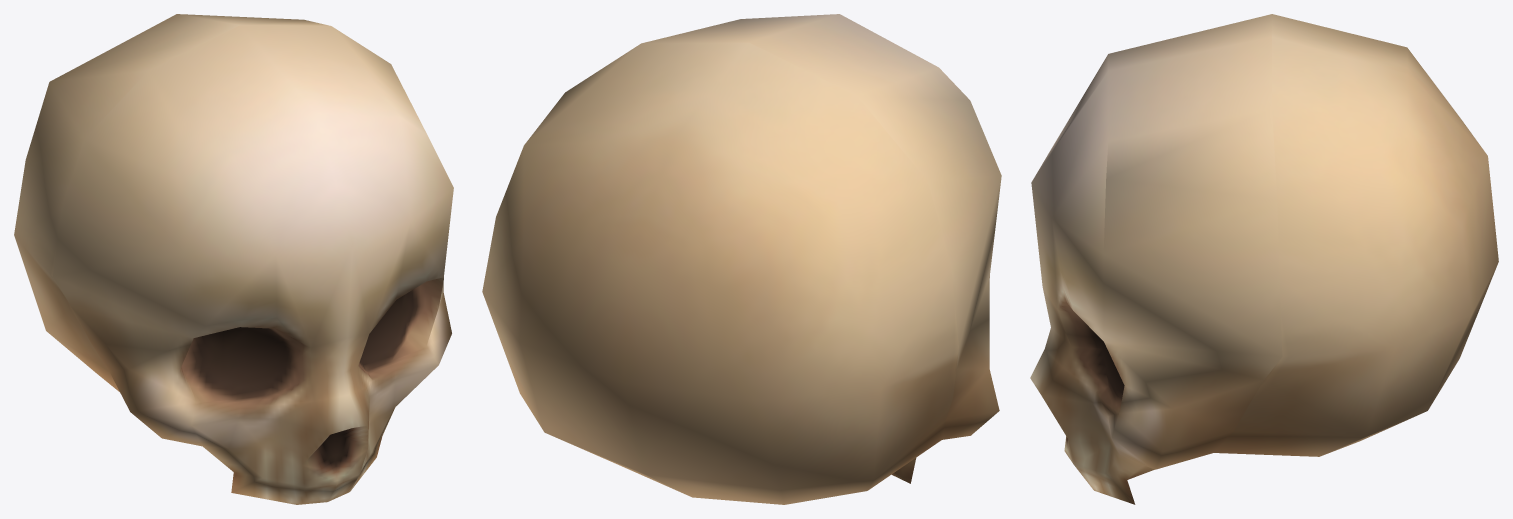
The model's file is skull.FBX.
3 views of the same model, side by side, from view 1: azimuth 30°, elevation 25°; view 2: azimuth 150°, elevation 25°; view 3: azimuth 270°, elevation 25° (orthographic). The views are drawn at different scales.
Parts seen in each view (by area): view 1: skull; view 2: skull; view 3: skull.
Part boxes in pixels (x1,y1,x2,y2): skull: [14, 14, 453, 504]; skull: [482, 14, 1001, 504]; skull: [1030, 14, 1498, 504].
Bounding box in the file's own units: 35.21 × 38.03 × 36.69.
